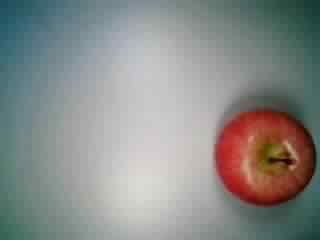apple: (213, 108, 318, 210)
